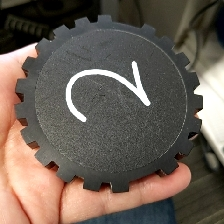gear: (13, 14, 204, 194)
missing: (110, 154, 179, 195), (95, 13, 157, 38)
